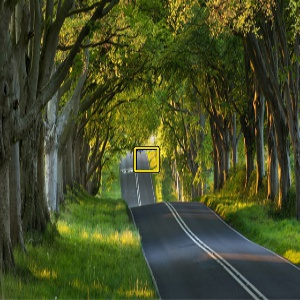square: (132, 143, 162, 174)
